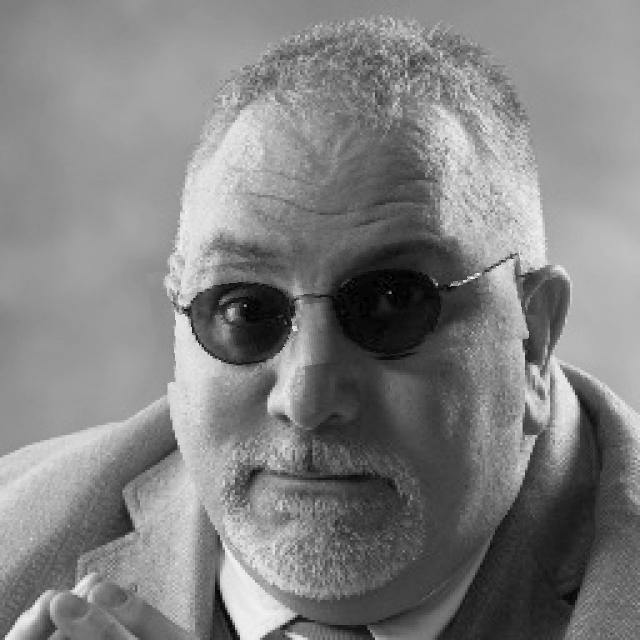glasses: (149, 239, 527, 372)
